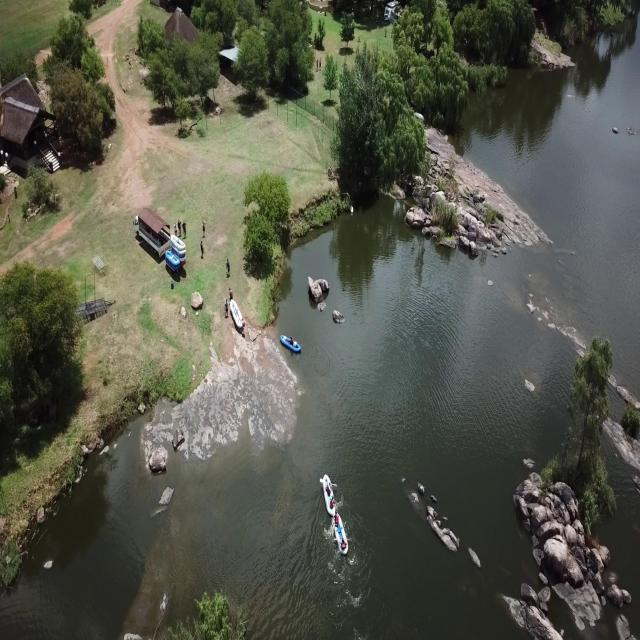kayak: (321, 473, 337, 520), (334, 514, 349, 560), (280, 332, 304, 360)
